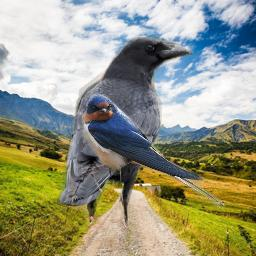Crow: (56, 37, 193, 230)
Swallow: (81, 94, 226, 209)
